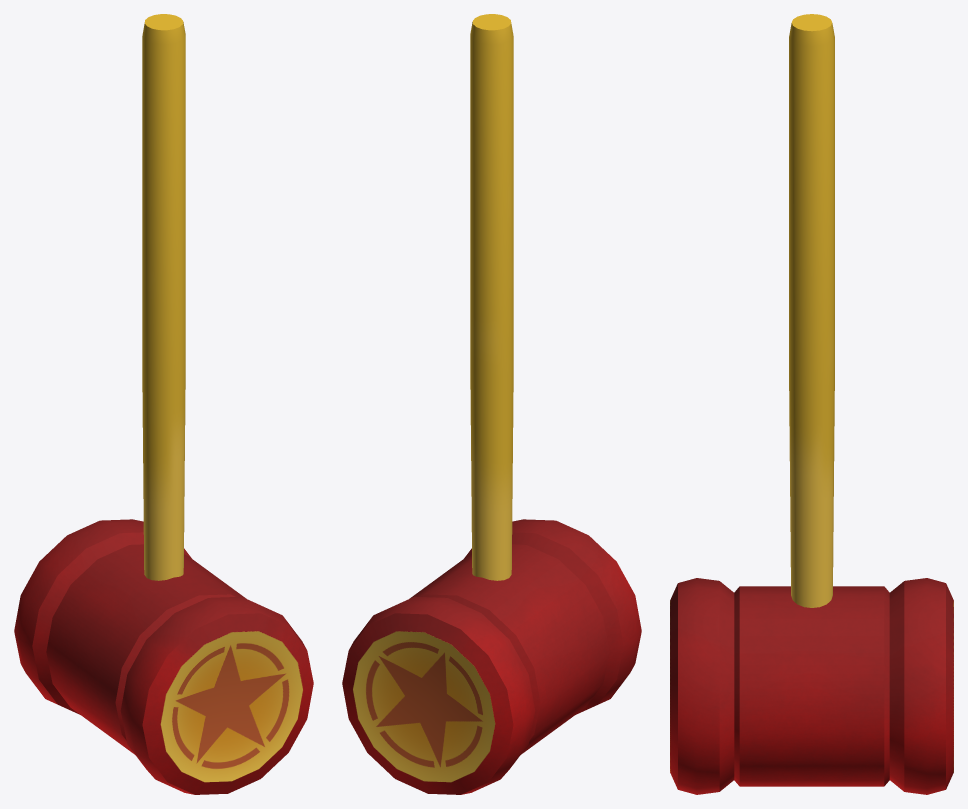
The model's file is hammer.glb.
The picture shows the model from 3 angles, left to right: view 1: azimuth 30°, elevation 25°; view 2: azimuth 150°, elevation 25°; view 3: azimuth 270°, elevation 25°; orthographic projection. The views are drawn at different scales.
Visible parts, largest first — view 1: strength_low.002; view 2: strength_low.002; view 3: strength_low.002.
Part boxes in pixels (box(x1,y1,x2,y2)): strength_low.002: box(14, 14, 313, 794); strength_low.002: box(342, 14, 641, 794); strength_low.002: box(670, 14, 953, 794).
Size of the model in its own units: 20.57 by 79.64 by 26.88.
1 material, 1 textured.
